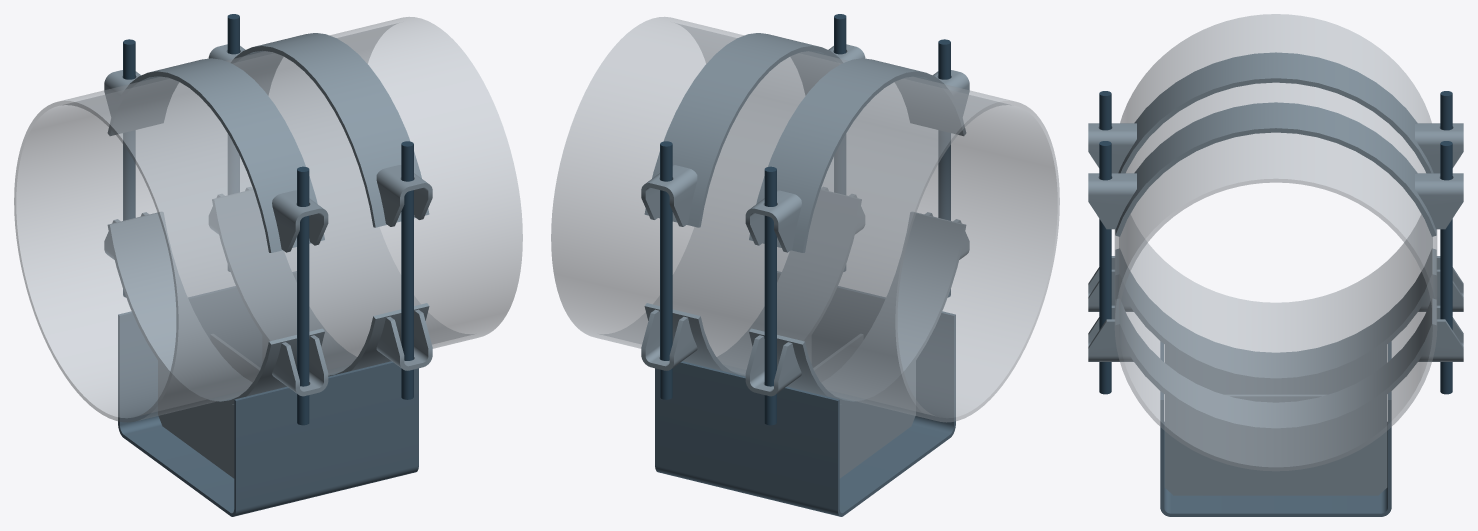
The model's file is TS-627.00.000-025-opora-dn530-H150-L340.glb.
The picture shows the model from 3 angles, left to right: view 1: azimuth 30°, elevation 25°; view 2: azimuth 150°, elevation 25°; view 3: azimuth 270°, elevation 25°; orthographic projection.
Visible parts, largest first — view 1: truba, skoba_0, podushka_4, bugel0_podushka_0, bugel1_podushka_0, podushka_5, rebro4_1, shpilka_0_-1, shpilka_1_-1, bugel0_ushko_2, bugel1_ushko_2, ushko_7 (+5 smaller); view 2: truba, skoba_0, podushka_4, bugel0_podushka_0, bugel1_podushka_0, podushka_5, rebro4_1, shpilka_0_1, shpilka_1_1, bugel0_ushko_1, bugel1_ushko_1, ushko_6 (+5 smaller); view 3: truba, rebro4_2, podushka_5, podushka_4, bugel1_podushka_0, bugel0_podushka_0, skoba_0, rebro4_1, shpilka_1_1, shpilka_1_-1, bugel1_ushko_1, bugel1_ushko_2 (+9 smaller).
Boxes of the visible parts, x1,y1,x2,y2 form: truba: (14,17,522,422); skoba_0: (118,271,418,516); podushka_4: (107,212,324,406); bugel0_podushka_0: (107,58,324,252); bugel1_podushka_0: (231,33,429,227); podushka_5: (212,189,429,376); rebro4_1: (158,361,234,478); shpilka_0_-1: (297,166,309,425); shpilka_1_-1: (401,141,413,399); bugel0_ushko_2: (272,190,328,252); bugel1_ushko_2: (376,165,432,226); ushko_7: (272,335,328,396); truba: (551,17,1059,422); skoba_0: (655,271,955,516); podushka_4: (749,212,966,406); bugel0_podushka_0: (749,58,966,252); bugel1_podushka_0: (644,33,842,227); podushka_5: (644,189,861,376); rebro4_1: (839,361,915,478); shpilka_0_1: (764,166,776,425); shpilka_1_1: (660,141,672,399); bugel0_ushko_1: (745,190,801,252); bugel1_ushko_1: (641,165,697,226); ushko_6: (745,335,801,396); truba: (1114,14,1437,471); rebro4_2: (1164,395,1387,495); podushka_5: (1115,298,1436,432); podushka_4: (1115,249,1436,382); bugel1_podushka_0: (1115,102,1436,236); bugel0_podushka_0: (1118,52,1433,173); skoba_0: (1160,341,1391,516); rebro4_1: (1164,345,1387,394); shpilka_1_1: (1440,141,1452,394); shpilka_1_-1: (1099,141,1111,394); bugel1_ushko_1: (1415,173,1463,229); bugel1_ushko_2: (1088,173,1136,229).
Size of the model in its own units: 640 by 694 by 616.
